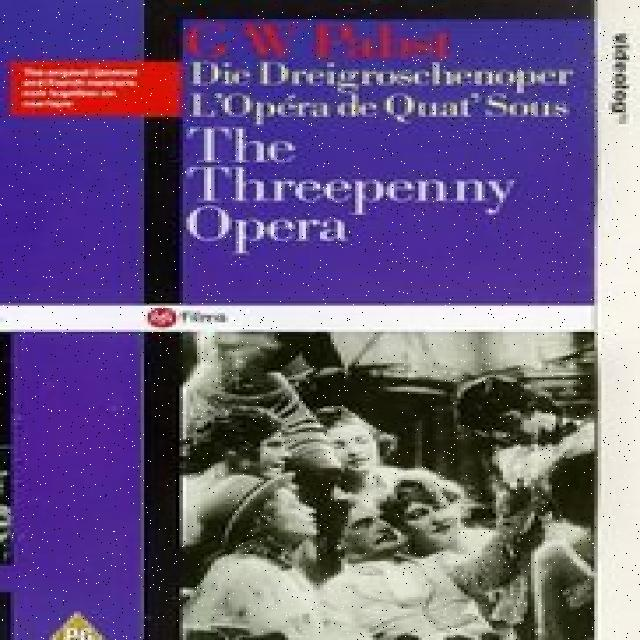movie-judul: (177, 121, 533, 252)
picture: (143, 331, 596, 637)
